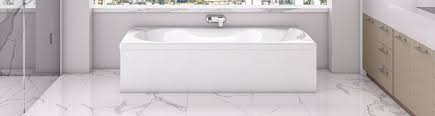bathub: (117, 22, 324, 97)
